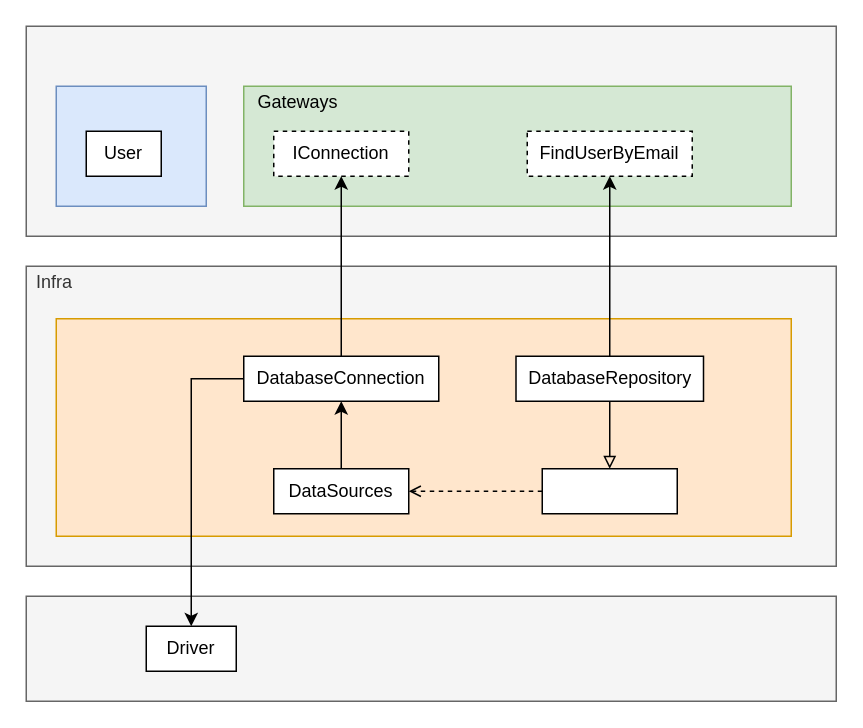
The diagram is 863 pixels wide and 728 high, and some of its shapes have lost their labels. Here are the shapes that lost their labels. From the top down, the box of each, then its label:
(55, 85, 206, 206): Models
(25, 25, 836, 236): Domain
(55, 317, 791, 536): Repositories
(541, 467, 677, 514): Repository
(25, 595, 836, 701): External
